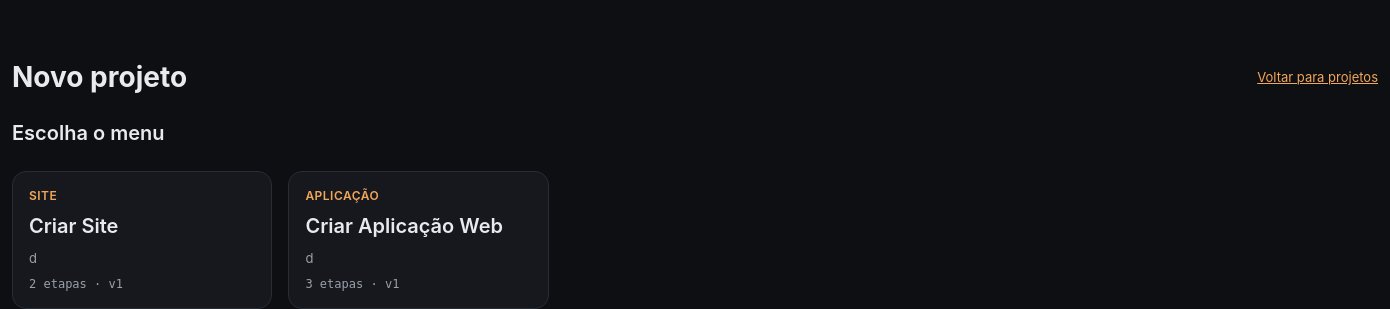
PaginaNovoProjeto › escolhe o menu, mostra o slug ao vivo, cria e navega para o projeto
(page scrolled)
Click the button "Site Criar Site d 2 etapas · v1" at (74,226), box 12,171 -> 272,308
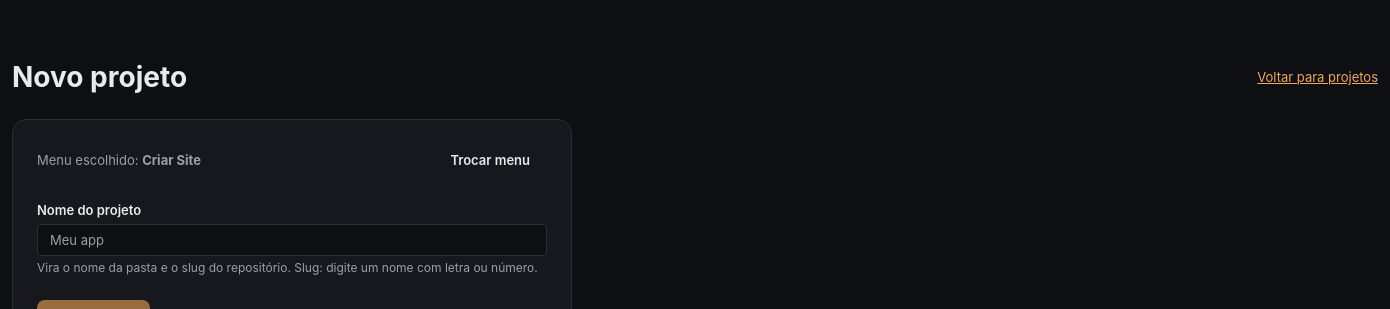
Type "Café da Manhã" into the field labelled "Nome do projeto" at (292,240), box 37,224 -> 547,256
(page scrolled)
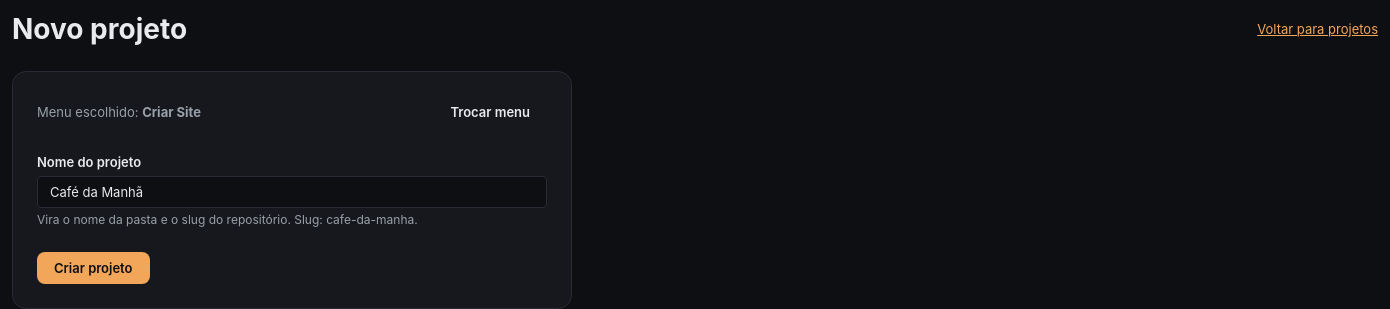
Click the button "Criar projeto" at (93,268), box 37,252 -> 150,284
(page scrolled)
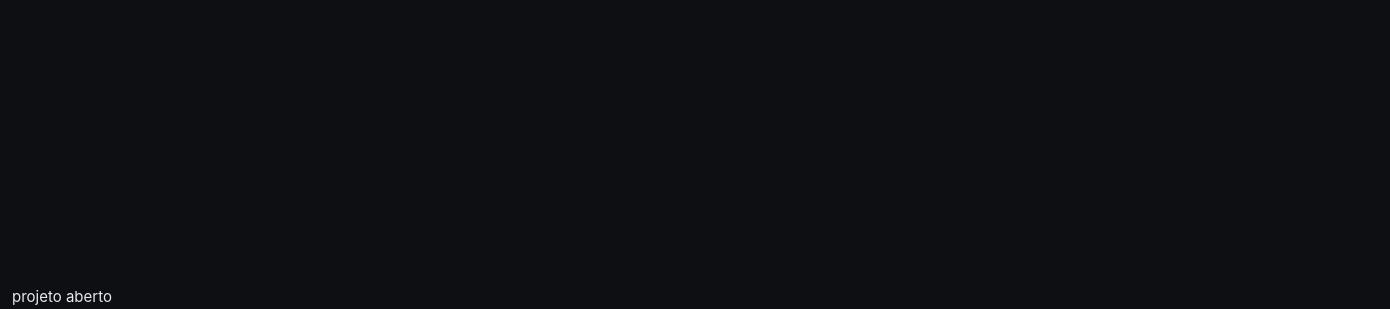
Result: the text "projeto aberto" is shown at 12,287 -> 112,306
